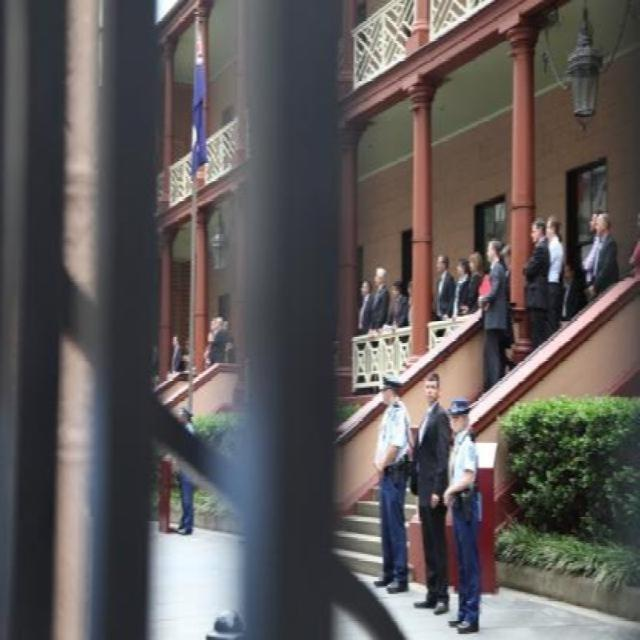stair: (332, 426, 420, 574)
